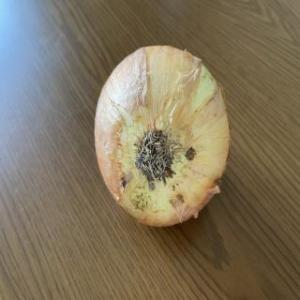onion: (93, 45, 227, 229)
